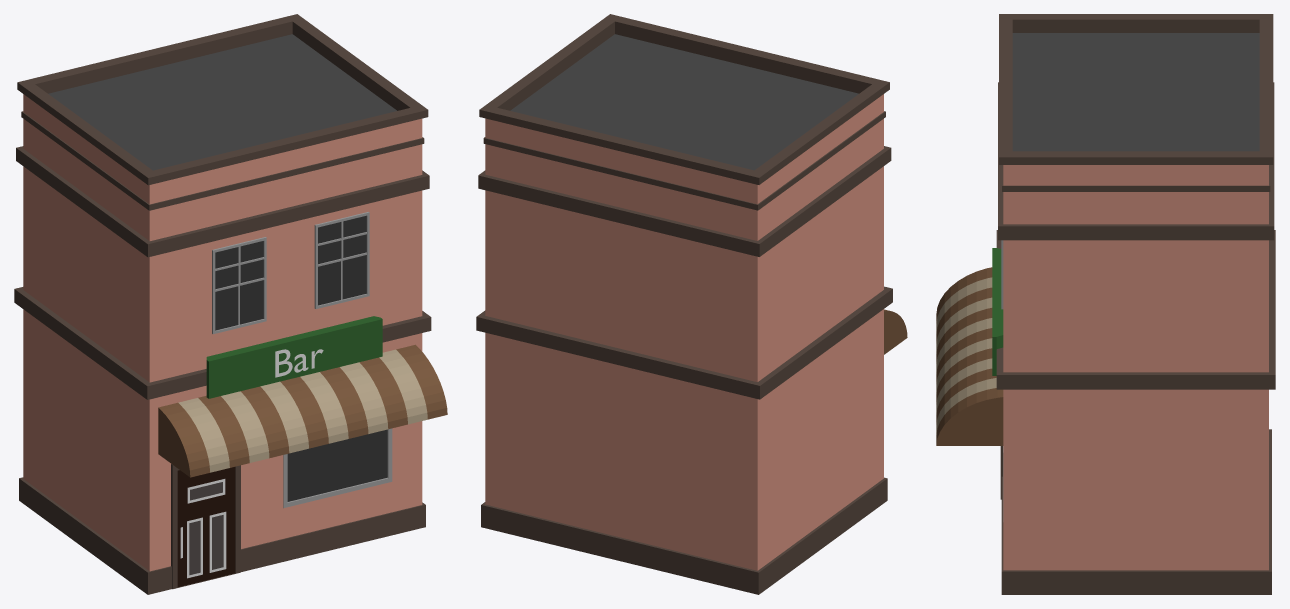
File: Building_Bar.fbx
3 views of the same model, side by side, from view 1: azimuth 30°, elevation 25°; view 2: azimuth 150°, elevation 25°; view 3: azimuth 270°, elevation 25° (orthographic). The views are drawn at different scales.
Visible parts, largest first — view 1: Cube, Plane, Text; view 2: Cube; view 3: Cube.
Boxes of the visible parts, x1,y1,x2,y2 form: Cube: (14, 14, 447, 594); Plane: (171, 464, 240, 589); Text: (275, 349, 323, 377); Cube: (476, 14, 907, 594); Cube: (936, 14, 1275, 594).
Bounding box in the file's own units: 710 × 999 × 701.
